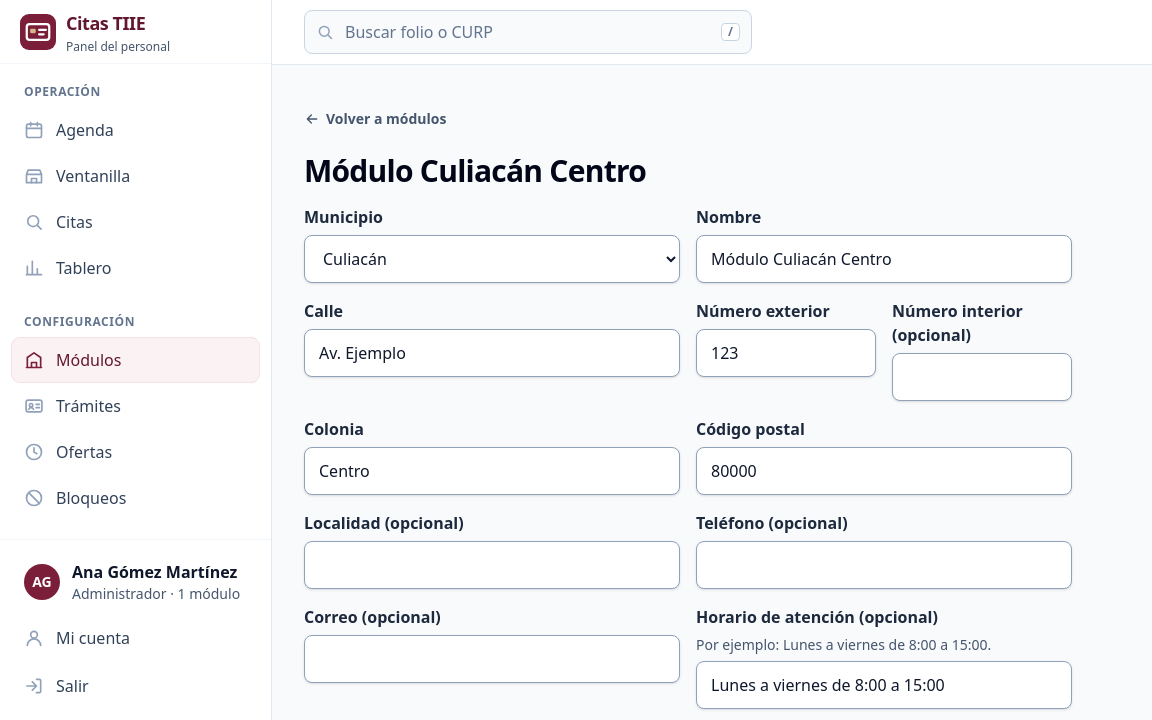
Test: Edición de un módulo › un 409 Conflicto ofrece recargar y muestra la versión nueva
Replace the text in the field labelled "Horario de atención (opcional)" with "Lunes a viernes de 9:00 a 15:00" at [884, 685], box [696,661,1072,709]
(page scrolled)
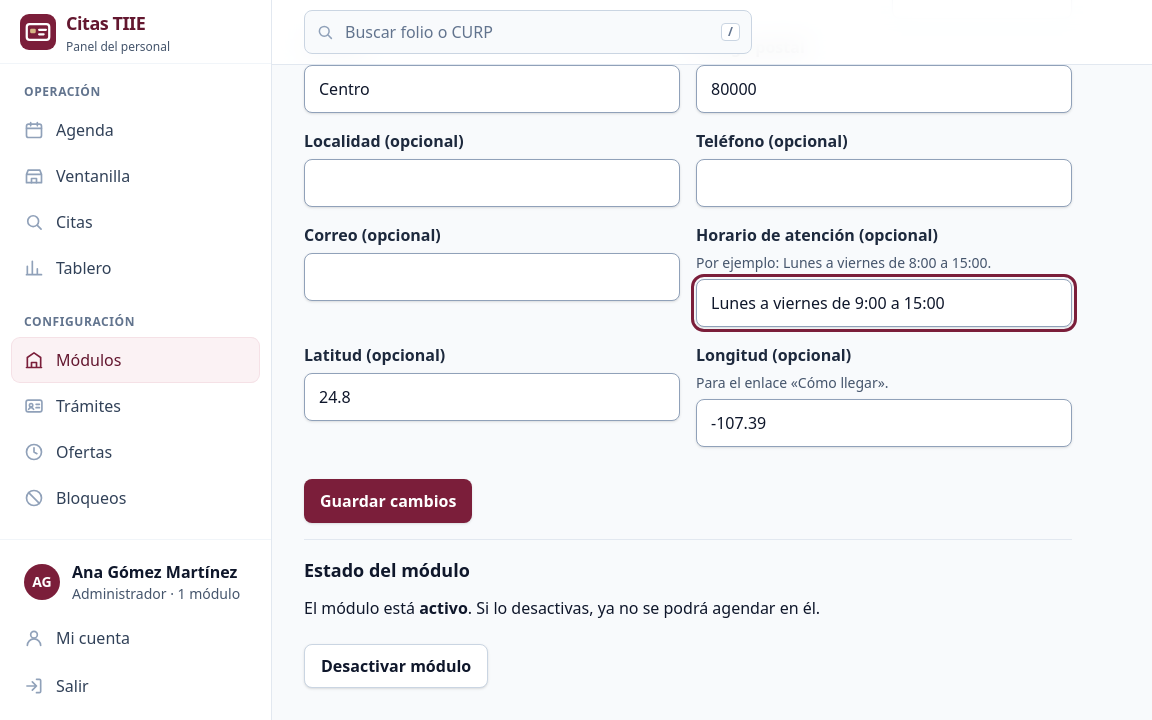
Click the button "Guardar cambios" at [388, 501], box [304,479,472,523]
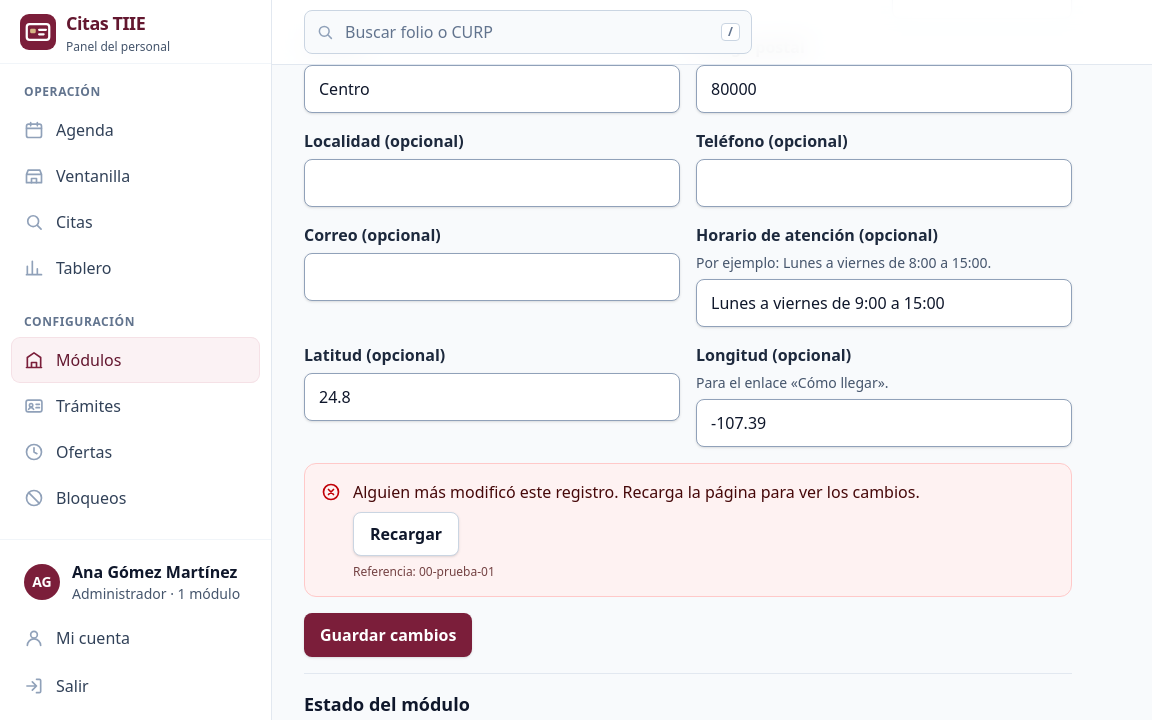
Result: the text "Alguien más modificó este registro. Recarga la página para ver los cambios." is shown at [353,481,920,503]
Click the button "Recargar" at [406, 534], box [353,512,459,556]
(page scrolled)
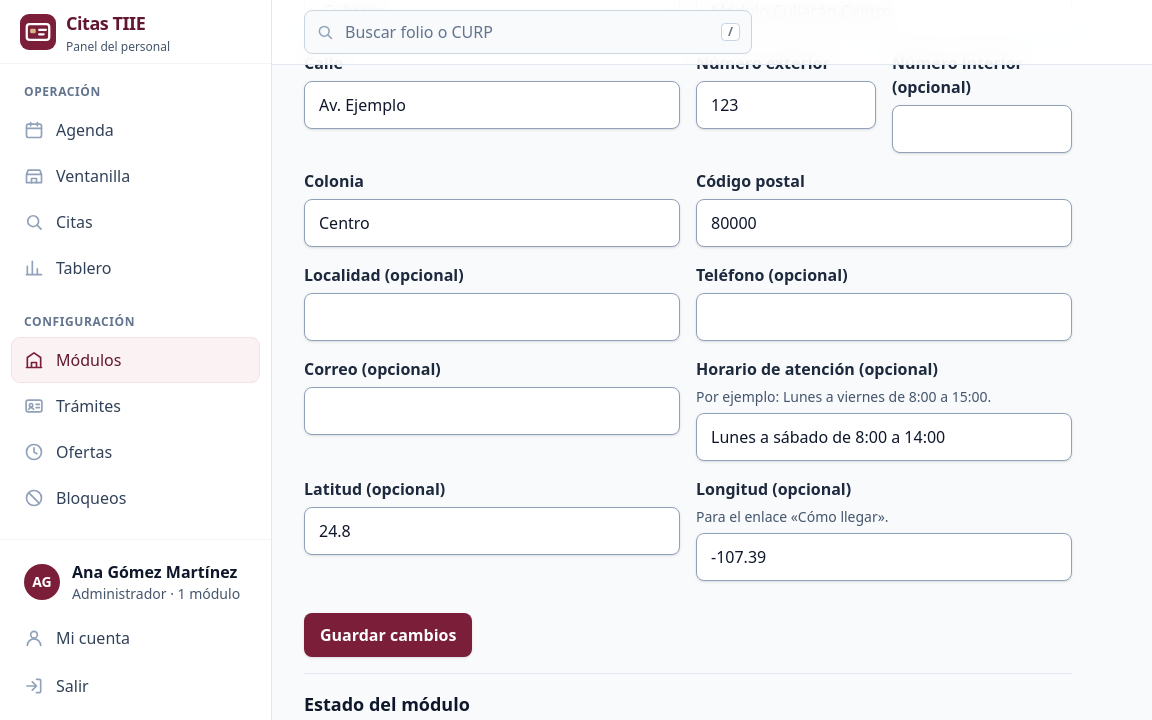
Result: the field showing "Lunes a sábado de 8:00 a 14:00" is shown at [696,413,1072,461]
Result: the text "Alguien más modificó este registro" is gone
